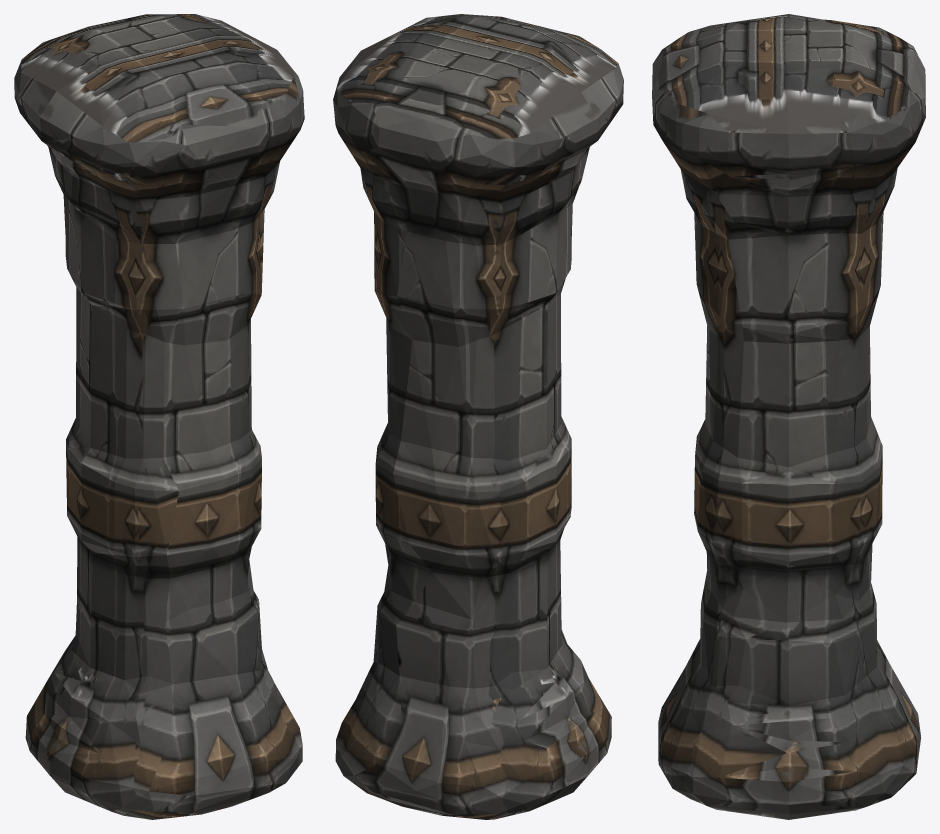
Rendered from SM_Dungeon_Pillar_A_LOD1.glb.
The picture shows the model from 3 angles, left to right: view 1: azimuth 30°, elevation 25°; view 2: azimuth 150°, elevation 25°; view 3: azimuth 270°, elevation 25°; orthographic projection.
Parts seen in each view (by area): view 1: SM_Dungeon_Pillar_A_LOD1; view 2: SM_Dungeon_Pillar_A_LOD1; view 3: SM_Dungeon_Pillar_A_LOD1.
Boxes of the visible parts, x1=… form: SM_Dungeon_Pillar_A_LOD1: x1=14, y1=14, x2=304, y2=819; SM_Dungeon_Pillar_A_LOD1: x1=333, y1=14, x2=623, y2=819; SM_Dungeon_Pillar_A_LOD1: x1=652, y1=14, x2=925, y2=819.
Size of the model in its own units: 0.9957 by 3 by 0.9915.
Materials: 1 (1 with a texture image).
